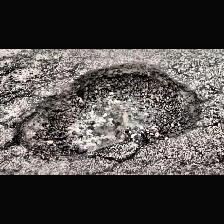pothole: (9, 60, 205, 162)
